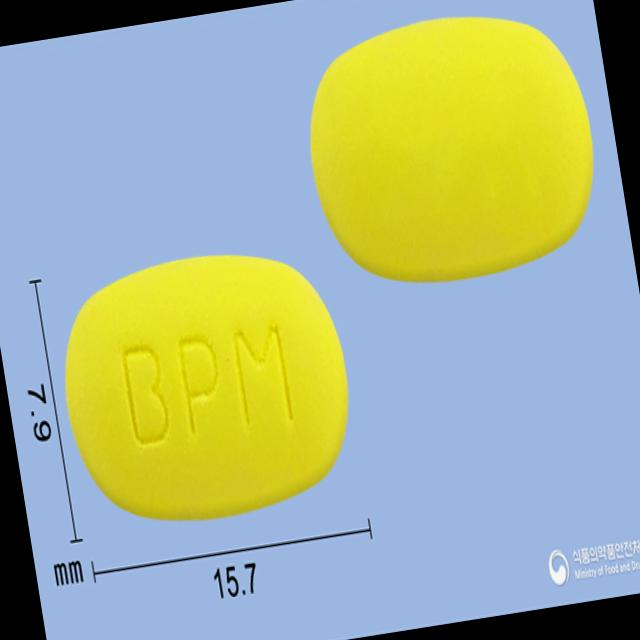Claycin: (42, 231, 374, 547)
